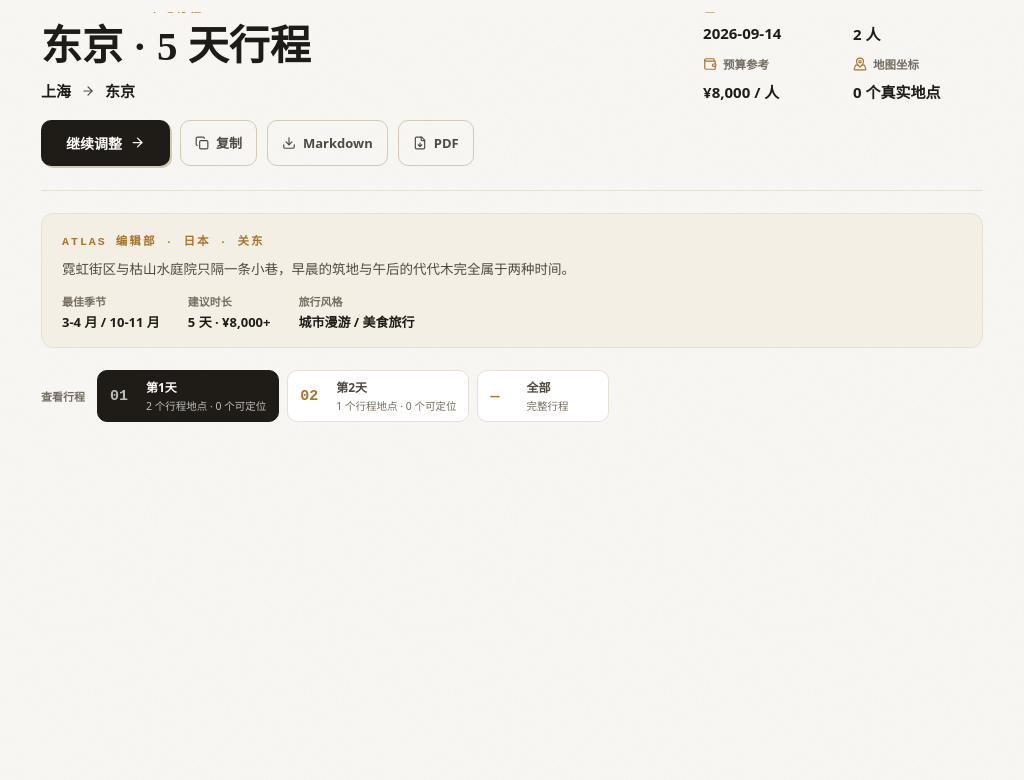
Test case: trip detail page › filters the visible itinerary by the selected day
(page scrolled)
Expected: the text "龙井村" is not shown
Click the button "02 第2天 1 个行程地点 · 0 个可定位". click: coordinates (378, 396)
box: [287,370,470,422]
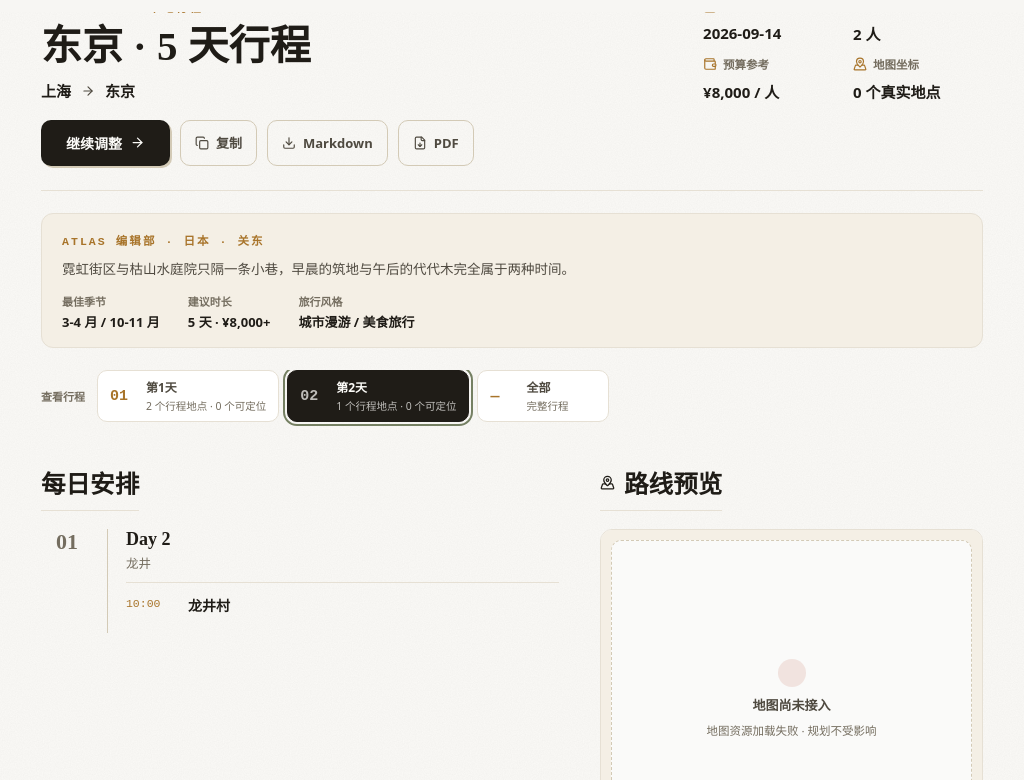
Now the text "龙井村" is shown, box [188,596,230,615]
Now the heading "每日安排" is shown, box [41,464,139,511]
